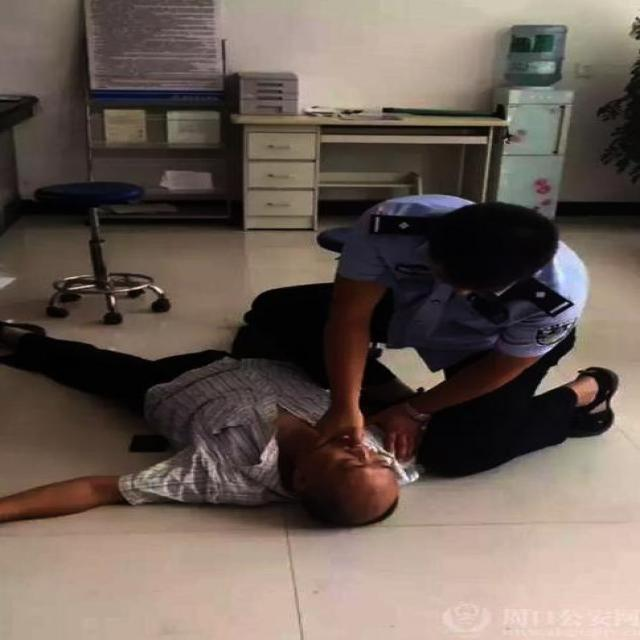fall: (0, 310, 402, 532)
